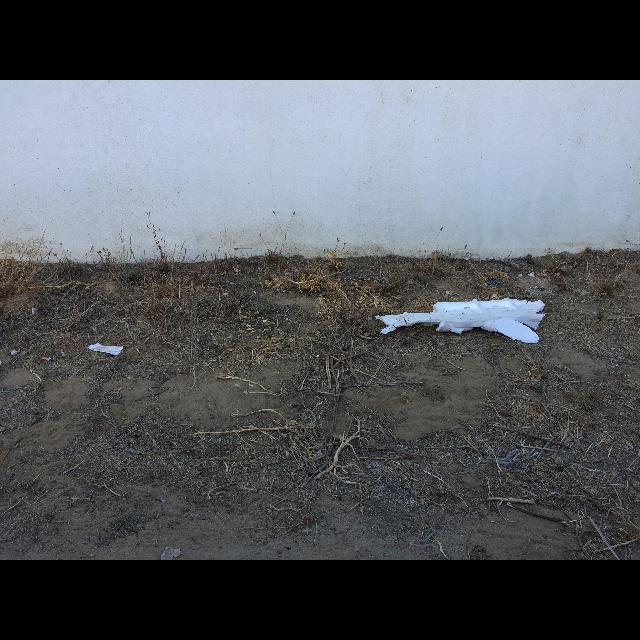Plastic: (375, 298, 545, 342)
